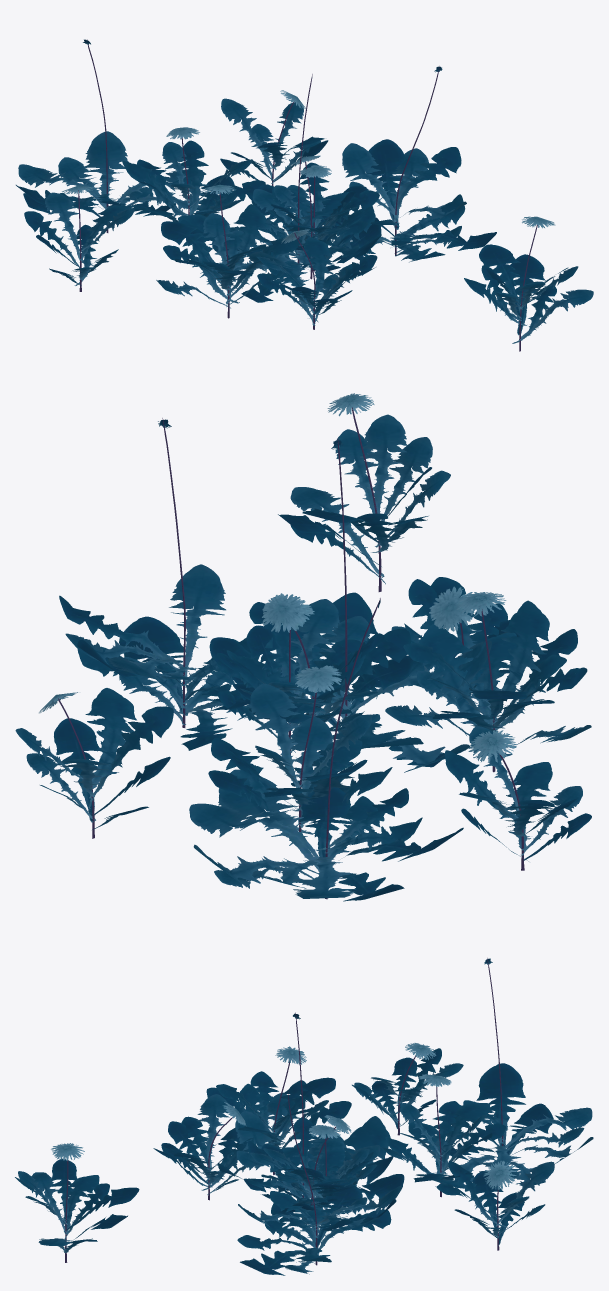
3 views of the same model, one above another, from view 1: azimuth 30°, elevation 25°; view 2: azimuth 150°, elevation 25°; view 3: azimuth 270°, elevation 25° (orthographic). The views are drawn at different scales.
Visible parts, largest first — view 1: SM_FH_Dandelion_01_LOD0; view 2: SM_FH_Dandelion_01_LOD0; view 3: SM_FH_Dandelion_01_LOD0.
Boxes of the visible parts, <box> form: SM_FH_Dandelion_01_LOD0: <box>16,39,593,351</box>; SM_FH_Dandelion_01_LOD0: <box>15,393,591,901</box>; SM_FH_Dandelion_01_LOD0: <box>15,958,593,1275</box>.
Bounding box in the file's own units: 0.7871 × 0.4565 × 1.04.
1 material, 1 textured.
